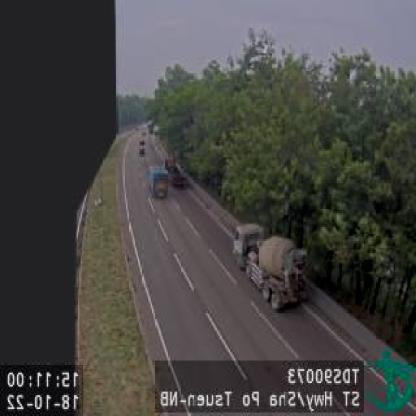Truck: (234, 227, 309, 311), (163, 154, 188, 192), (149, 164, 169, 199)
